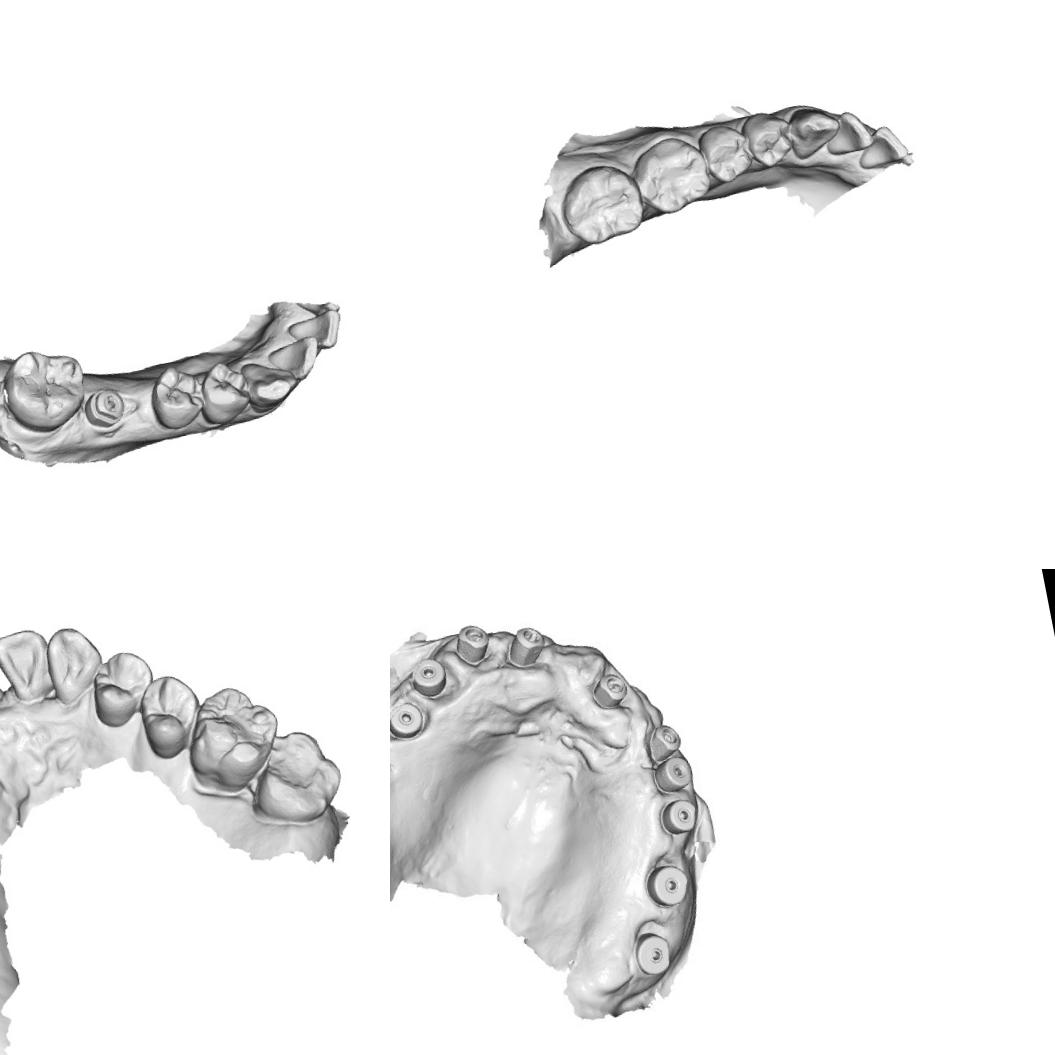canine: (34, 620, 109, 712), (235, 350, 303, 416), (781, 100, 846, 163)
implant: (641, 856, 694, 916), (404, 652, 450, 699), (631, 926, 676, 974), (450, 620, 494, 667), (588, 668, 632, 713), (507, 621, 550, 666), (390, 699, 428, 745), (662, 796, 700, 840), (642, 720, 682, 758), (653, 753, 691, 791)
implant_minus: (80, 381, 130, 435)
incisor: (0, 620, 59, 707), (850, 118, 914, 175), (282, 303, 347, 358), (261, 334, 325, 386), (818, 104, 876, 161)
molar: (174, 676, 290, 798), (239, 720, 351, 833), (0, 339, 95, 440), (552, 156, 650, 252), (625, 126, 719, 220)
premolar: (81, 642, 162, 733), (131, 668, 207, 764), (140, 358, 212, 434), (190, 354, 258, 430), (694, 111, 760, 188), (737, 102, 802, 173)
